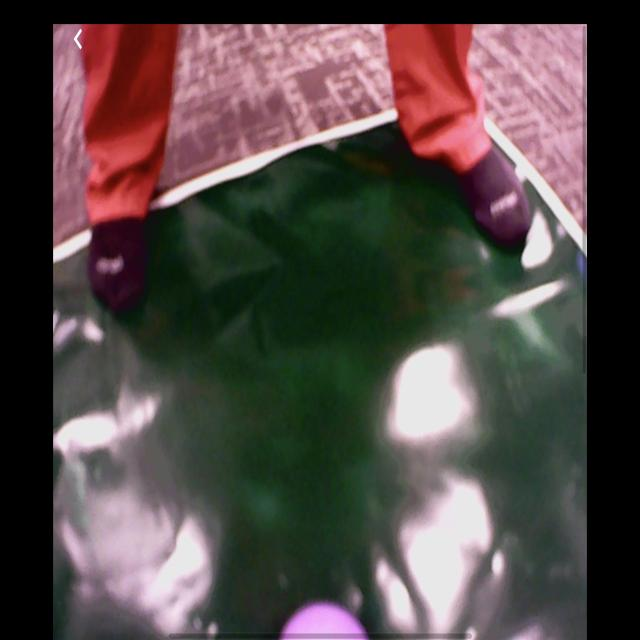ball: (280, 601, 368, 640)
